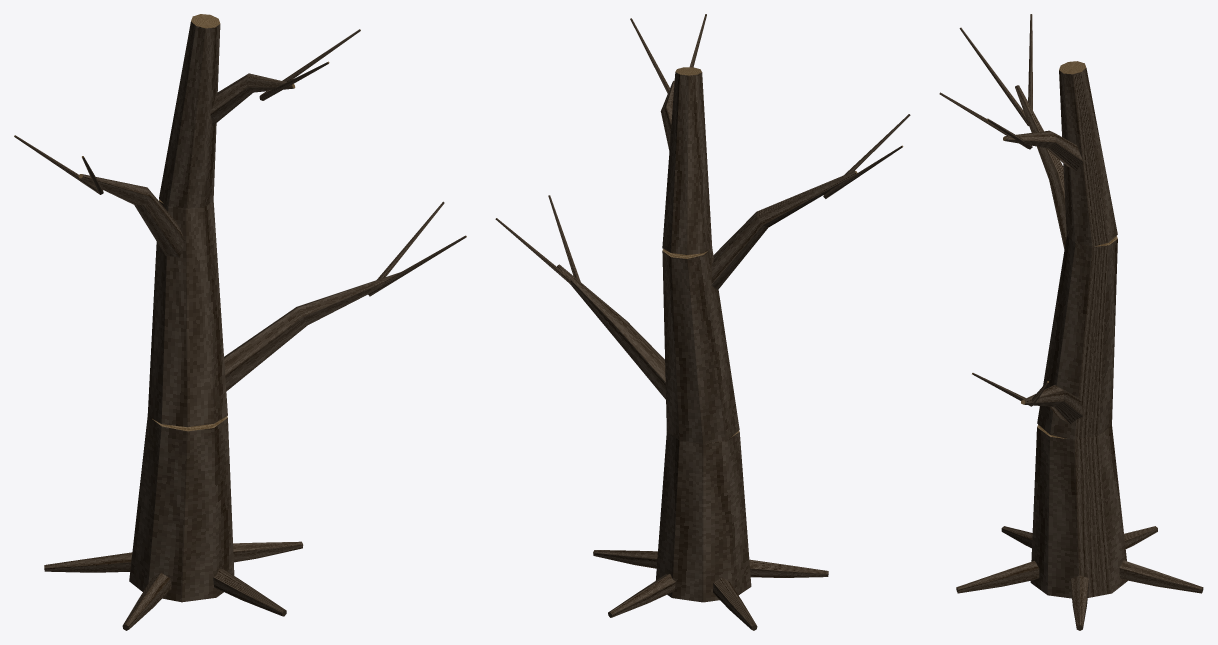
File: env_trees_05_snapped_crown.glb
3 renders of one model, left to right at view 1: azimuth 30°, elevation 25°; view 2: azimuth 150°, elevation 25°; view 3: azimuth 270°, elevation 25°, orthographic. The views are drawn at different scales.
Parts seen in each view (by area): view 1: solid; view 2: solid; view 3: solid.
Part boxes in pixels (<box>): solid: <box>14,14,466,630</box>; solid: <box>495,14,910,630</box>; solid: <box>939,14,1203,630</box>.
Size of the model in its own units: 2.65 by 3.22 by 1.48.
Materials: 1 (1 with a texture image).
